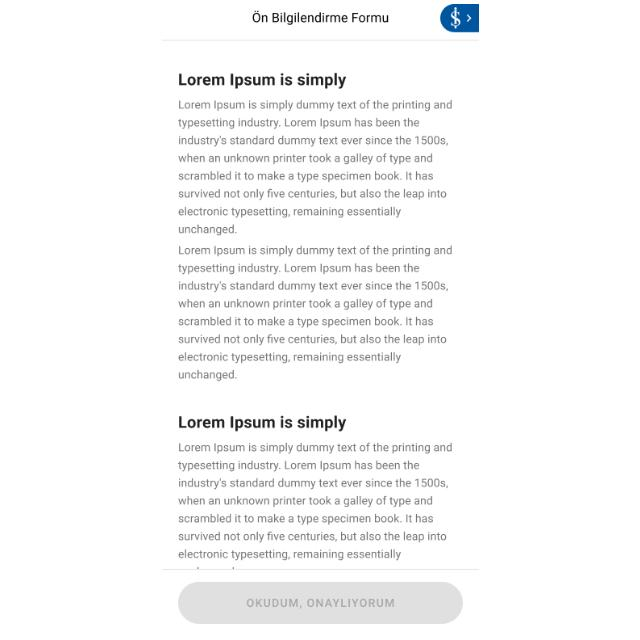QLabel: (170, 244, 456, 388), (170, 99, 456, 238), (172, 436, 450, 564), (172, 414, 346, 432), (174, 72, 348, 90), (246, 10, 388, 26), (242, 597, 398, 609)
VAppBar: (162, 0, 478, 40)
VBtn: (178, 581, 462, 625)
VFooter: (162, 568, 476, 636)
VImg: (439, 3, 477, 33)
